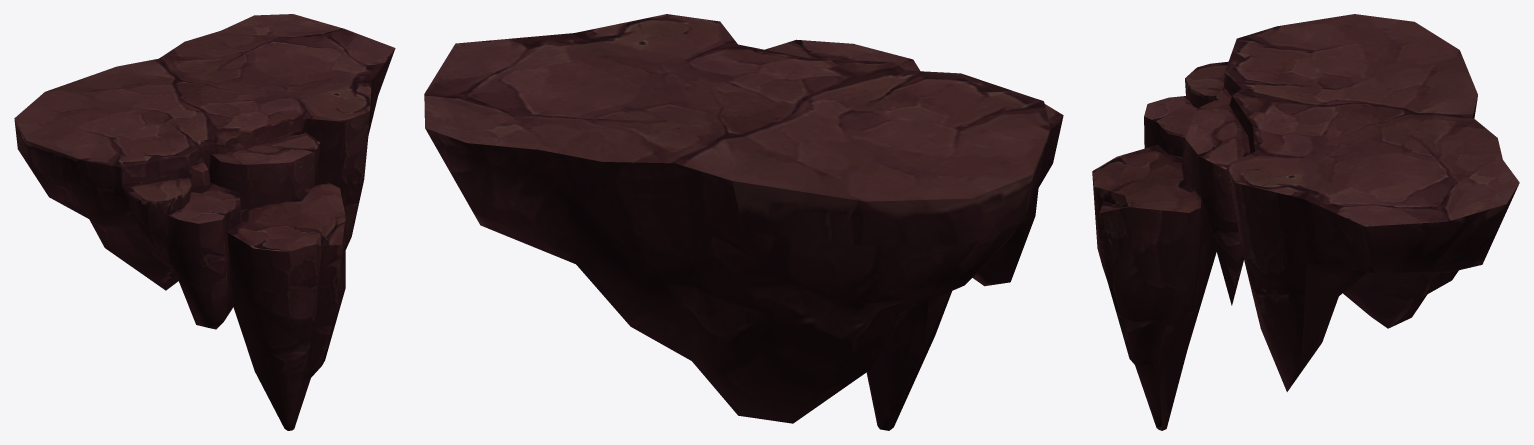
Rendered from BOSS_E_07.FBX.
3 views of the same model, side by side, from view 1: azimuth 30°, elevation 25°; view 2: azimuth 150°, elevation 25°; view 3: azimuth 270°, elevation 25° (orthographic). The views are drawn at different scales.
Visible parts, largest first — view 1: BOSS_E_07; view 2: BOSS_E_07; view 3: BOSS_E_07.
Boxes of the visible parts, x1,y1,x2,y2 form: BOSS_E_07: [14, 14, 395, 430]; BOSS_E_07: [424, 14, 1063, 430]; BOSS_E_07: [1092, 14, 1519, 430].
Bounding box in the file's own units: 9.38 × 6.5 × 8.05.
